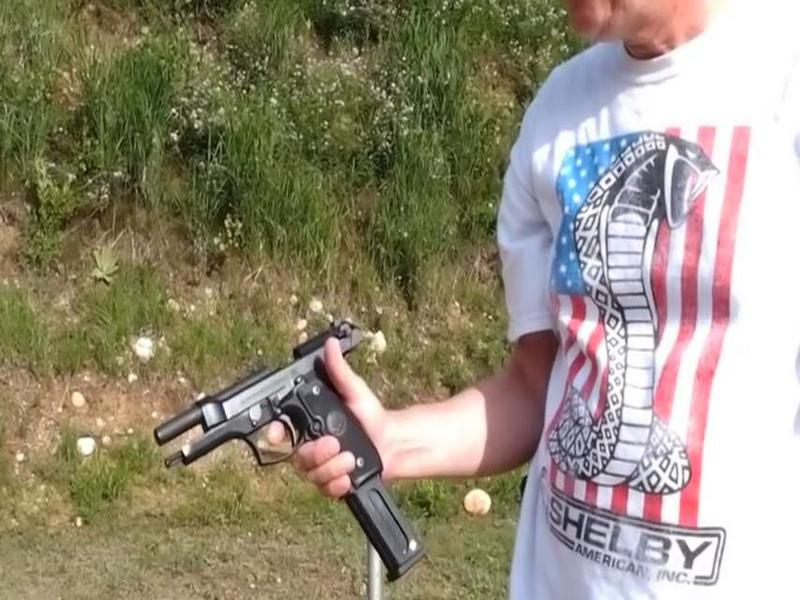Pistola: (117, 333, 412, 507)
